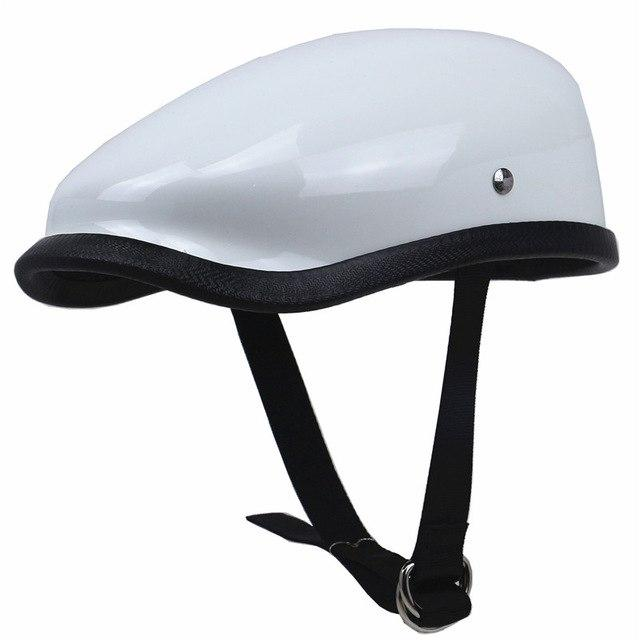with_helmet: (9, 23, 628, 313)
